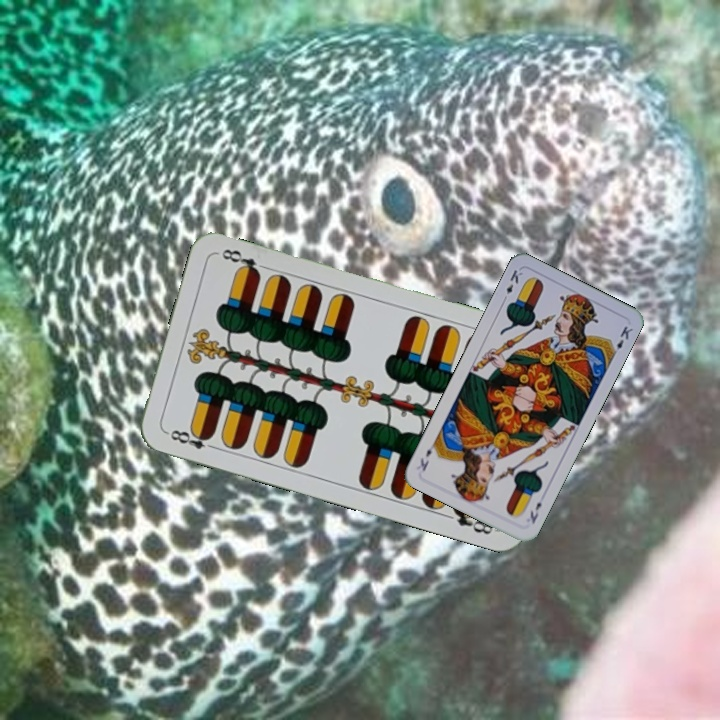E8: (162, 425, 220, 452)
EK: (499, 266, 525, 304), (526, 498, 544, 526)
